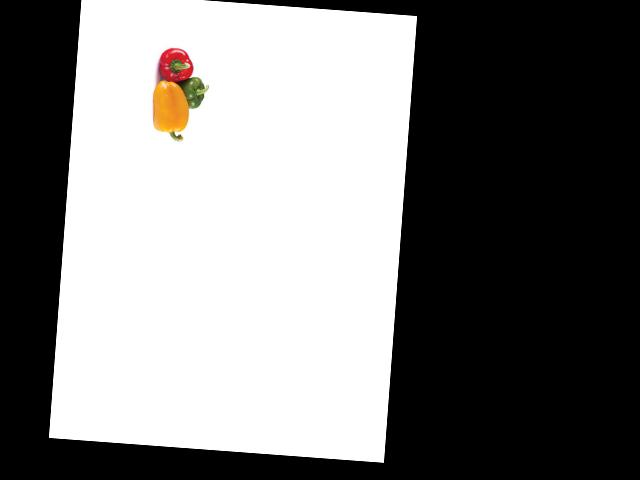bell_pepper: (174, 72, 210, 113)
